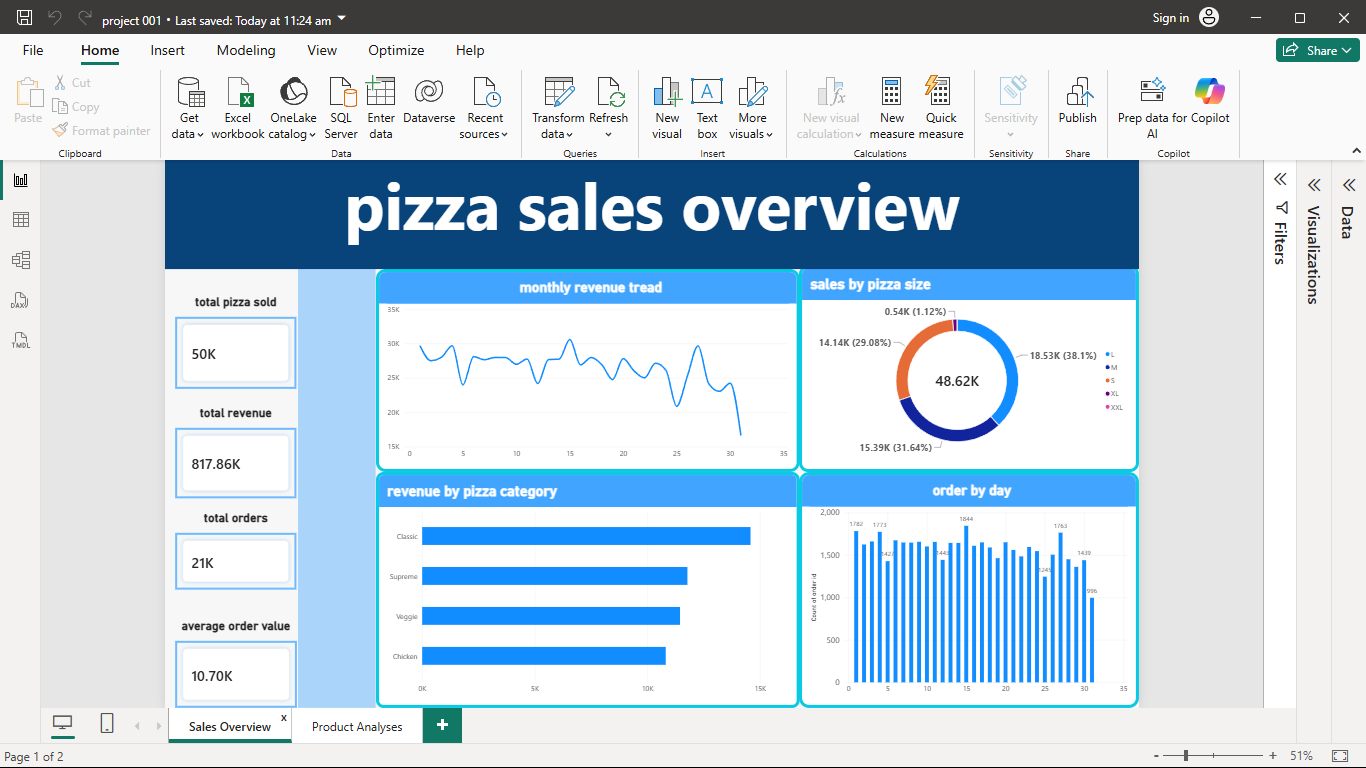

Layout of this report page (visuals, bound fields, positions):
{"tool":"powerbi","page":{"name":"Sales Overview","canvas":[1920,1080],"ordinal":0},"visuals":[{"type":"cardVisual","title":"total revenue","fields":{"Data":["pizza_sales.total revenue"]},"box":[0,484.3,279.2,182.9],"z":0},{"type":"cardVisual","title":"total pizza sold","fields":{"Data":["pizza_sales.total pizza sold"]},"box":[0,266.9,279.2,185.3],"z":1},{"type":"cardVisual","title":"total orders","fields":{"Data":["pizza_sales.total_order"]},"box":[0,691.9,279.2,155.7],"z":2},{"type":"cardVisual","title":"average order value","fields":{"Data":["pizza_sales.average orders value"]},"box":[0,905,280,175],"z":3},{"type":"lineChart","title":"monthly revenue tread","fields":{"Category":["pizza_sales.order date.Variation.Date Hierarchy.Day"],"Y":["Sum(pizza_sales.total price)"]},"box":[415.1,215,835.2,400.3],"z":4},{"type":"clusteredBarChart","title":"revenue by pizza category","fields":{"Category":["pizza_sales.pizza category"],"Y":["CountNonNull(pizza_sales.total price)"]},"box":[415.1,615.3,835.2,464.6],"z":5},{"type":"donutChart","title":"sales by pizza size","fields":{"Category":["pizza_sales.pizza size"],"Y":["CountNonNull(pizza_sales.quantity)"]},"box":[1250.3,207.6,669.7,407.7],"z":6},{"type":"clusteredColumnChart","title":"order by day","fields":{"Category":["pizza_sales.order date.Variation.Date Hierarchy.Day"],"Y":["CountNonNull(pizza_sales.order id)"]},"box":[1250.3,615.3,669.7,464.6],"z":7},{"type":"textbox","box":[0,0,1920,215],"z":8},{"type":"textbox","box":[262.2,214.7,152.8,865],"z":9}]}

Visuals, with their boxes on the page's 1920x1080 design canvas (x1, y1, x2, y2). These are canvas units, not pixel positions in the 1366x768 screenshot, which may show the page scaled, cropped or inside an application window:
"total revenue" cardVisual: bbox=[0, 484, 279, 667]
"total pizza sold" cardVisual: bbox=[0, 267, 279, 452]
"total orders" cardVisual: bbox=[0, 692, 279, 848]
"average order value" cardVisual: bbox=[0, 905, 280, 1080]
"monthly revenue tread" lineChart: bbox=[415, 215, 1250, 615]
"revenue by pizza category" clusteredBarChart: bbox=[415, 615, 1250, 1080]
"sales by pizza size" donutChart: bbox=[1250, 208, 1920, 615]
"order by day" clusteredColumnChart: bbox=[1250, 615, 1920, 1080]
textbox: bbox=[0, 0, 1920, 215]
textbox: bbox=[262, 215, 415, 1080]
